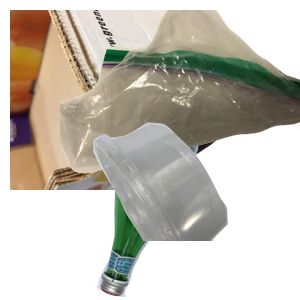cardboard: (10, 10, 250, 190)
glass: (93, 143, 284, 300)
plastic: (91, 120, 300, 300)
trash: (60, 10, 300, 176)
